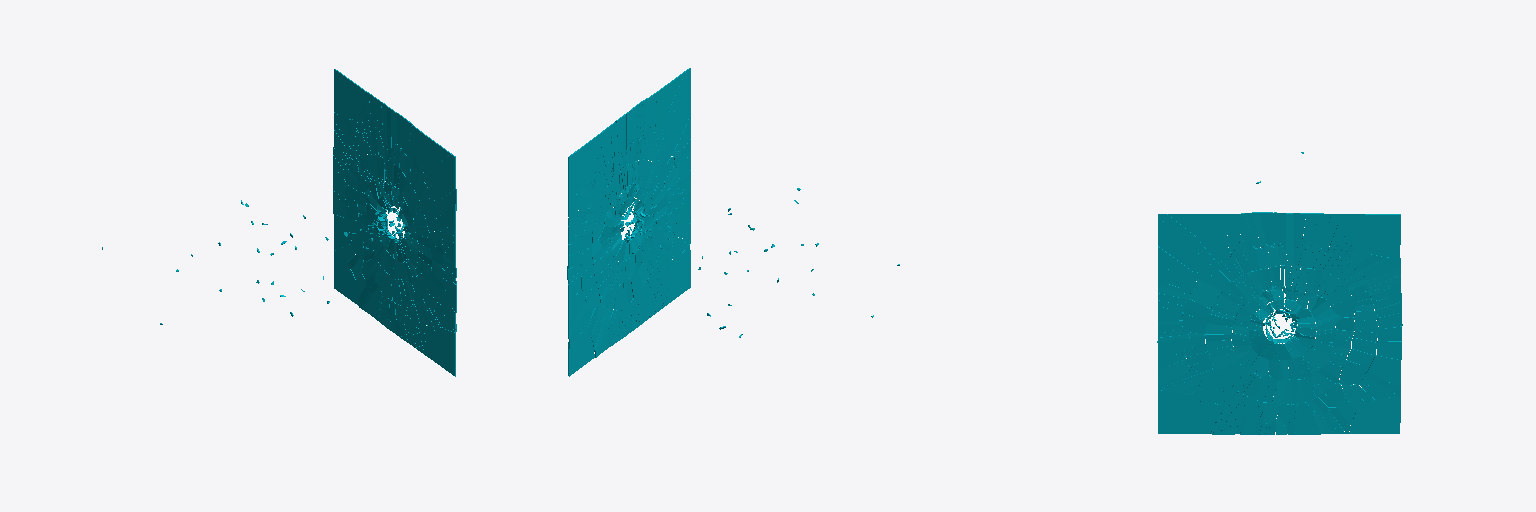
The model's file is uploads_files_627867_Broken+glass.obj.
3 views of the same model, side by side, from view 1: azimuth 30°, elevation 25°; view 2: azimuth 150°, elevation 25°; view 3: azimuth 270°, elevation 25° (orthographic).
Visible parts, largest first — view 1: Plane_cell.780_Mesh.1043, Plane_cell.502_Mesh.765, Plane_cell.675_Mesh.938, Plane_cell.746_Mesh.1009, Plane_cell.719_Mesh.982; view 2: Plane_cell.780_Mesh.1043, Plane_cell.502_Mesh.765, Plane_cell.675_Mesh.938, Plane_cell.746_Mesh.1009, Plane_cell.719_Mesh.982; view 3: Plane_cell.780_Mesh.1043, Plane_cell.502_Mesh.765, Plane_cell.675_Mesh.938, Plane_cell.746_Mesh.1009, Plane_cell.719_Mesh.982, Plane_cell.793_Mesh.1056, Plane_cell.730_Mesh.993.
Part boxes in pixels (left/top/right/bottom): Plane_cell.780_Mesh.1043: left=334, top=69, right=367, bottom=119; Plane_cell.502_Mesh.765: left=431, top=329, right=455, bottom=376; Plane_cell.675_Mesh.938: left=334, top=251, right=358, bottom=305; Plane_cell.746_Mesh.1009: left=420, top=132, right=451, bottom=172; Plane_cell.719_Mesh.982: left=429, top=159, right=455, bottom=201; Plane_cell.780_Mesh.1043: left=568, top=132, right=602, bottom=199; Plane_cell.502_Mesh.765: left=666, top=244, right=690, bottom=305; Plane_cell.675_Mesh.938: left=568, top=333, right=594, bottom=376; Plane_cell.746_Mesh.1009: left=655, top=71, right=685, bottom=130; Plane_cell.719_Mesh.982: left=664, top=71, right=690, bottom=145; Plane_cell.780_Mesh.1043: left=1334, top=214, right=1400, bottom=257; Plane_cell.502_Mesh.765: left=1158, top=390, right=1206, bottom=433; Plane_cell.675_Mesh.938: left=1349, top=396, right=1400, bottom=433; Plane_cell.746_Mesh.1009: left=1168, top=214, right=1228, bottom=252; Plane_cell.719_Mesh.982: left=1158, top=217, right=1210, bottom=273; Plane_cell.793_Mesh.1056: left=1158, top=214, right=1216, bottom=264; Plane_cell.730_Mesh.993: left=1158, top=246, right=1197, bottom=288.
Size of the model in its own units: 7.21 by 5.35 by 5.34.